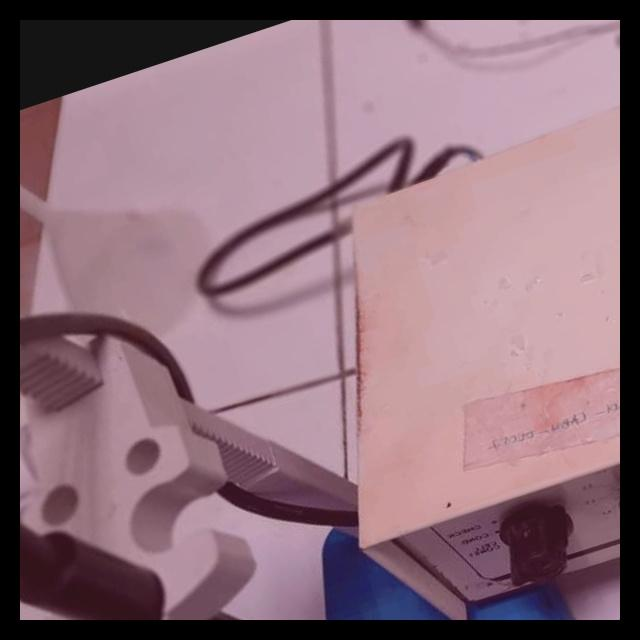Conductivity Meter: (20, 20, 620, 620)
